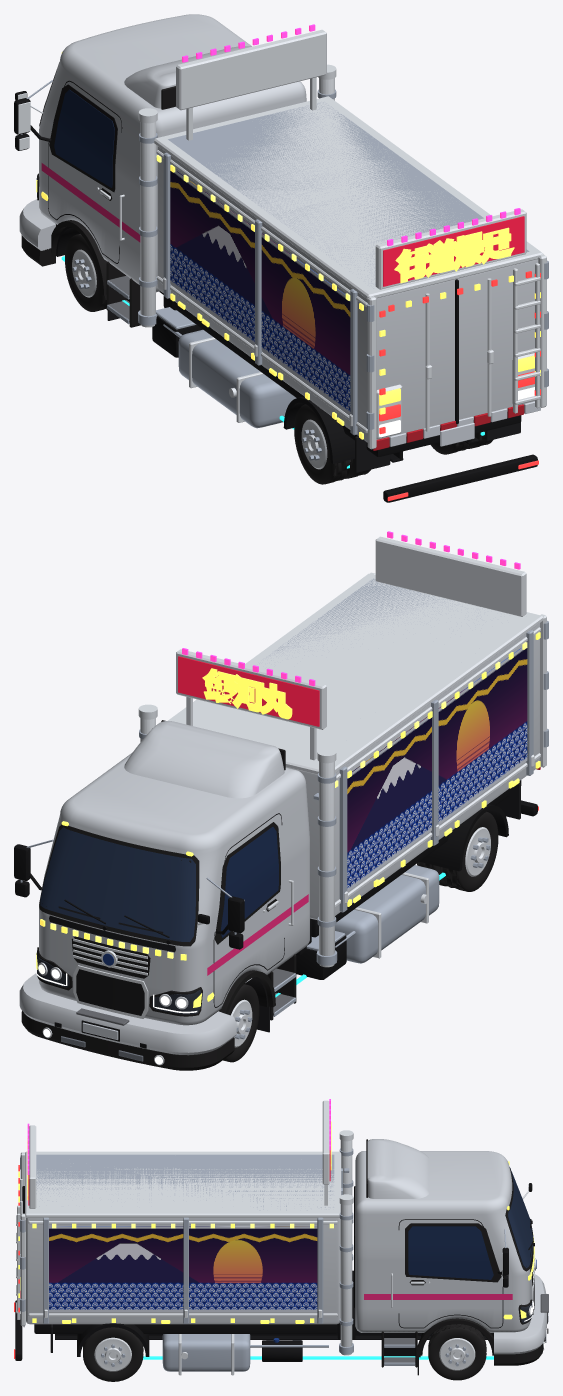
File: dekotora_truck_leve.glb
The picture shows the model from 3 angles, top to bottom: view 1: azimuth 30°, elevation 25°; view 2: azimuth 150°, elevation 25°; view 3: azimuth 270°, elevation 25°; orthographic projection. The views are drawn at different scales.
Parts seen in each view (by area): view 1: truck_chrome, truck_paint_white_panel, truck_steel, truck_mural, truck_plastic_black, truck_lamp_amber, truck_plastic_trim, truck_glass, wheel_r_L_1.5_1.06, wheel_f_L, truck_andon_panel, truck_paint_white (+5 smaller); view 2: truck_paint_white_panel, truck_chrome, truck_mural, truck_steel, truck_glass_wind, truck_plastic_trim, truck_plastic_black, truck_lamp_amber, truck_glass, truck_andon_panel, wheel_r_L_1.5_1.06, truck_grille_honeycomb (+7 smaller); view 3: truck_paint_white_panel, truck_chrome, truck_mural, truck_steel, truck_plastic_black, truck_glass, truck_plastic_trim, wheel_f_R, wheel_r_R_1.5_1.06, truck_glass_wind, truck_lamp_amber, truck_paint_pink (+2 smaller).
Boxes of the visible parts, left/top/right/bottom form: truck_chrome: left=18, top=29, right=546, bottom=449; truck_paint_white_panel: left=19, top=14, right=538, bottom=442; truck_steel: left=20, top=80, right=548, bottom=435; truck_mural: left=170, top=170, right=350, bottom=414; truck_plastic_black: left=14, top=80, right=537, bottom=502; truck_lamp_amber: left=36, top=52, right=540, bottom=439; truck_plastic_trim: left=21, top=62, right=175, bottom=327; truck_glass: left=54, top=89, right=114, bottom=187; wheel_r_L_1.5_1.06: left=294, top=404, right=352, bottom=484; wheel_f_L: left=65, top=234, right=106, bottom=311; truck_andon_panel: left=383, top=216, right=524, bottom=286; truck_paint_white: left=389, top=401, right=540, bottom=446; truck_paint_white_panel: left=19, top=623, right=539, bottom=1055; truck_chrome: left=29, top=536, right=546, bottom=1065; truck_mural: left=347, top=647, right=527, bottom=891; truck_steel: left=20, top=578, right=548, bottom=1016; truck_glass_wind: left=40, top=827, right=195, bottom=941; truck_plastic_trim: left=21, top=720, right=296, bottom=1070; truck_plastic_black: left=14, top=780, right=537, bottom=1048; truck_lamp_amber: left=36, top=632, right=540, bottom=1007; truck_glass: left=220, top=827, right=278, bottom=937; truck_andon_panel: left=178, top=656, right=319, bottom=726; wheel_r_L_1.5_1.06: left=440, top=812, right=498, bottom=891; truck_grille_honeycomb: left=76, top=969, right=144, bottom=1015; truck_paint_white_panel: left=26, top=1139, right=547, bottom=1354; truck_chrome: left=16, top=1100, right=544, bottom=1375; truck_mural: left=49, top=1226, right=317, bottom=1311; truck_steel: left=20, top=1148, right=507, bottom=1371; truck_plastic_black: left=15, top=1183, right=548, bottom=1361; truck_glass: left=408, top=1226, right=493, bottom=1279; truck_plastic_trim: left=366, top=1139, right=545, bottom=1367; wheel_f_R: left=428, top=1324, right=486, bottom=1380; wheel_r_R_1.5_1.06: left=83, top=1327, right=143, bottom=1381; truck_glass_wind: left=508, top=1167, right=532, bottom=1268; truck_lamp_amber: left=18, top=1121, right=534, bottom=1323; truck_paint_pink: left=364, top=1294, right=512, bottom=1299.
Bounding box in the file's own units: 3.32 × 4.35 × 9.17.
Materials: 26 (9 with a texture image).
